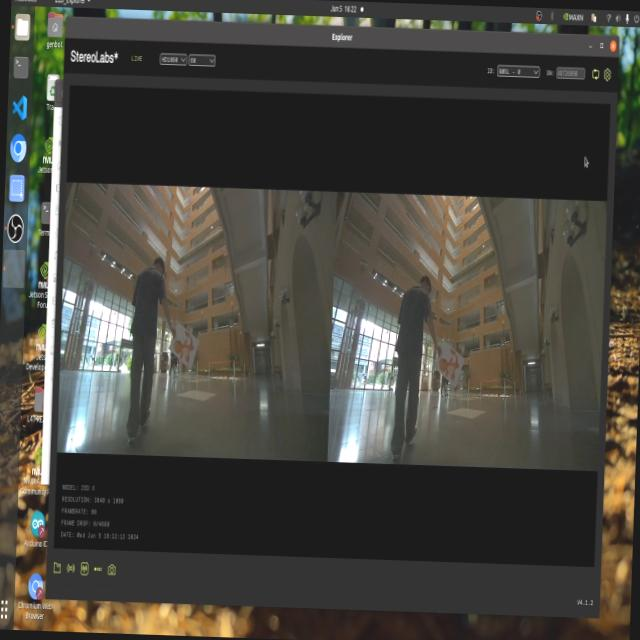red: (435, 354, 464, 391), (173, 329, 200, 366)
